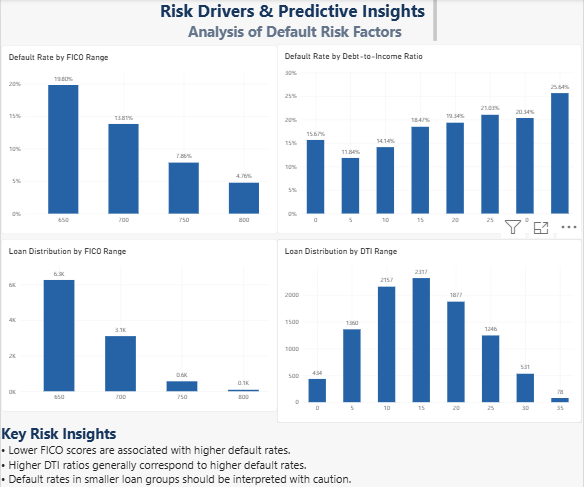

What the dashboard file says about the page in this screenshot:
{"tool":"powerbi","page":{"name":"Risk Drivers & Predictive Insights","canvas":[1280,1100],"ordinal":1},"visuals":[{"type":"clusteredColumnChart","title":"Default Rate by FICO Range","fields":{"Category":["Analytical_Sample.FICO (bins)"],"Y":["Analytical_Sample.Default Rate"]},"box":[0,102,608,416],"z":0},{"type":"clusteredColumnChart","title":"Loan Distribution by FICO Range","fields":{"Category":["Analytical_Sample.FICO (bins)"],"Y":["Analytical_Sample.Total Loans"]},"box":[0,528,608,380],"z":1000},{"type":"clusteredColumnChart","title":"Default Rate by Debt-to-Income Ratio","fields":{"Category":["Analytical_Sample.dti (bins)"],"Y":["Analytical_Sample.Default Rate"]},"box":[608,100,670,418],"z":2000},{"type":"clusteredColumnChart","title":"Loan Distribution by DTI Range","fields":{"Category":["Analytical_Sample.dti (bins)"],"Y":["Analytical_Sample.Total Loans"]},"box":[608,528,670,404],"z":3000},{"type":"textbox","box":[341,0,618.2,101.2],"z":4000},{"type":"textbox","box":[0,932.5,1277.5,167.5],"z":5000}]}

Visuals, with their boxes on the page's 1280x1100 design canvas (x1, y1, x2, y2). These are canvas units, not pixel positions in the 584x487 screenshot, which may show the page scaled, cropped or inside an application window:
"Default Rate by FICO Range" clusteredColumnChart: l=0, t=102, r=608, b=518
"Loan Distribution by FICO Range" clusteredColumnChart: l=0, t=528, r=608, b=908
"Default Rate by Debt-to-Income Ratio" clusteredColumnChart: l=608, t=100, r=1278, b=518
"Loan Distribution by DTI Range" clusteredColumnChart: l=608, t=528, r=1278, b=932
textbox: l=341, t=0, r=959, b=101
textbox: l=0, t=932, r=1278, b=1100
